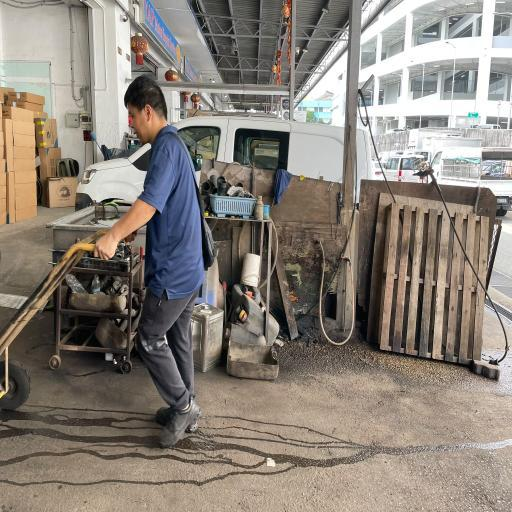person_left: (0, 76, 222, 460)
